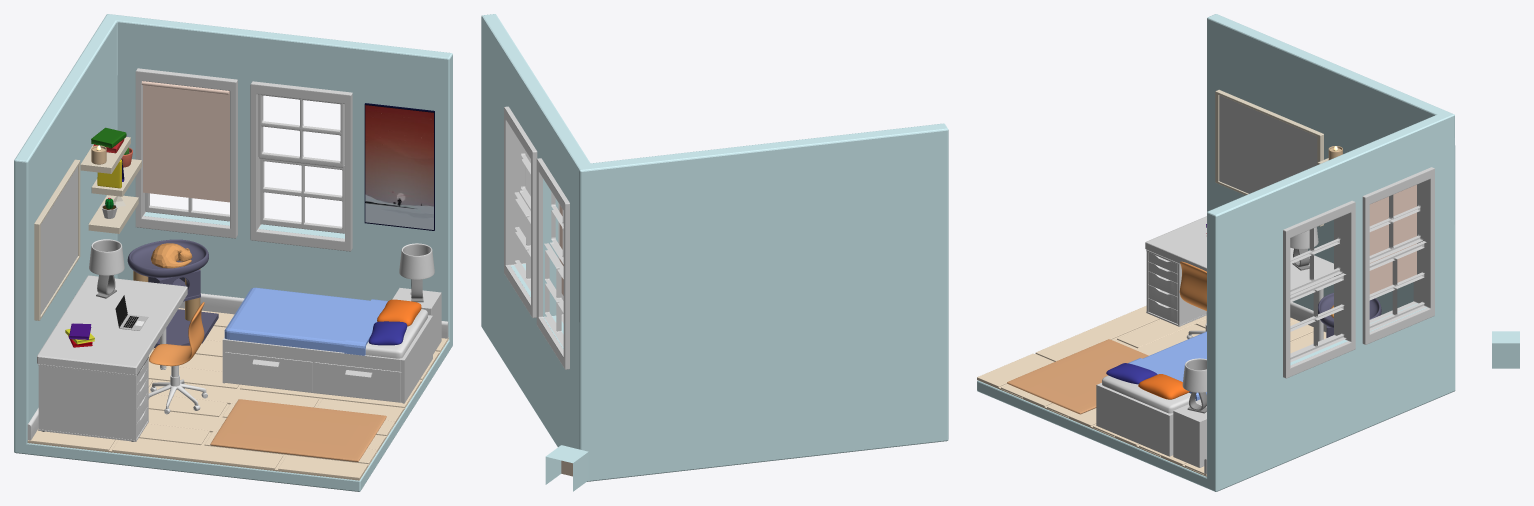
File: room_animation3.glb
3 renders of one model, left to right at view 1: azimuth 30°, elevation 25°; view 2: azimuth 150°, elevation 25°; view 3: azimuth 270°, elevation 25°, orthographic. The views are drawn at different scales.
Parts seen in each view (by area): view 1: Body.005, desk-cattree, Bed and nightstand, Wall stuff, Body.009, Body.011, Floor items, Body.008, desk-items-cat, Shelves, Pillows, Chair (+1 smaller); view 2: Body.005, Body.009, Body.008, Cube; view 3: Body.005, Body.009, Bed and nightstand, Wall stuff, desk-cattree, Body.008, Floor items, Body.011, desk-items-cat, Pillows, Cube, Chair.
Boxes of the visible parts, x1,y1,x2,y2 form: Body.005: (14, 14, 452, 491); desk-cattree: (37, 239, 218, 441); Bed and nightstand: (222, 287, 441, 403); Wall stuff: (34, 103, 434, 320); Body.009: (135, 68, 344, 238); Body.011: (143, 85, 229, 202); Floor items: (148, 365, 386, 461); Body.008: (250, 81, 352, 251); desk-items-cat: (65, 239, 434, 347); Shelves: (80, 127, 141, 233); Pillows: (368, 299, 421, 345); Chair: (149, 302, 204, 366); Body.005: (481, 14, 948, 481); Body.009: (514, 142, 569, 369); Body.008: (504, 106, 537, 317); Cube: (545, 445, 588, 491); Body.005: (977, 14, 1455, 491); Body.009: (1290, 167, 1434, 362); Bed and nightstand: (1096, 331, 1206, 467); Wall stuff: (1215, 89, 1323, 226); desk-cattree: (1145, 216, 1381, 341); Body.008: (1283, 200, 1355, 378); Floor items: (1007, 311, 1206, 414); Body.011: (1369, 185, 1416, 294); desk-items-cat: (1182, 224, 1333, 413); Pillows: (1106, 363, 1189, 399); Cube: (1492, 331, 1519, 368); Chair: (1179, 261, 1206, 310).
Bounding box in the file's own units: 5.67 × 3.63 × 6.44.
Materials: 45 (1 with a texture image).
